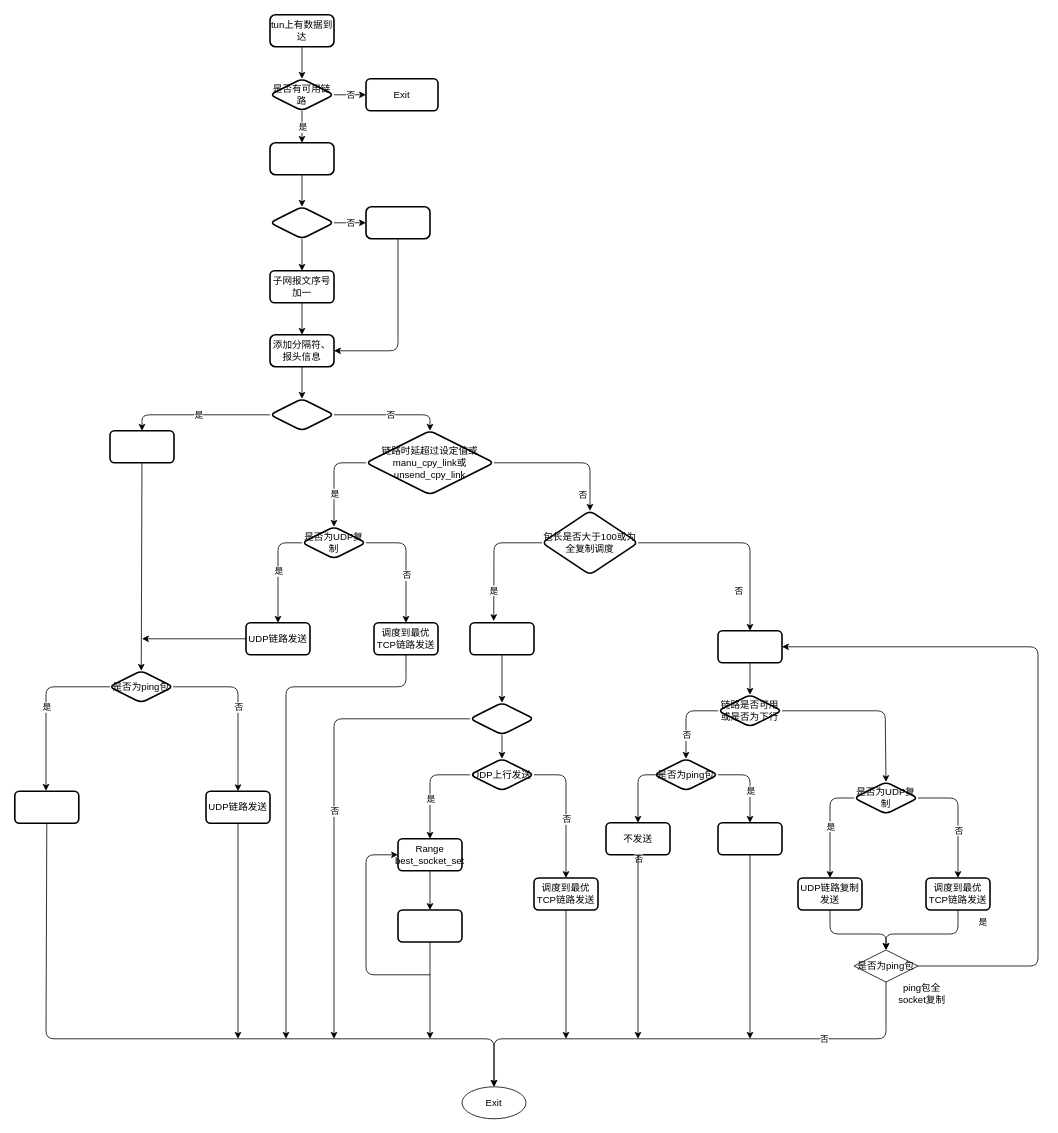
The diagram is 1058 pixels wide and 1133 high, and some of its shapes have lost their labels. Each missing label, with the box of its shape:
Range Netlist: (717, 630, 782, 663)
UDP socket发送: (397, 909, 462, 942)
从TCP链路发送（保活）: (14, 790, 79, 824)
从tun上读取数据: (269, 142, 334, 175)
强制使用UDP: (269, 398, 334, 431)
新建子网信息结构体: (365, 206, 430, 239)
是否有best_socket: (469, 702, 534, 735)
是否有对应的子网信息: (269, 206, 334, 239)
更新最优socket: (469, 622, 534, 655)
更新链路状态: (109, 430, 174, 463)
调度到最优链路发送: (717, 822, 782, 855)
